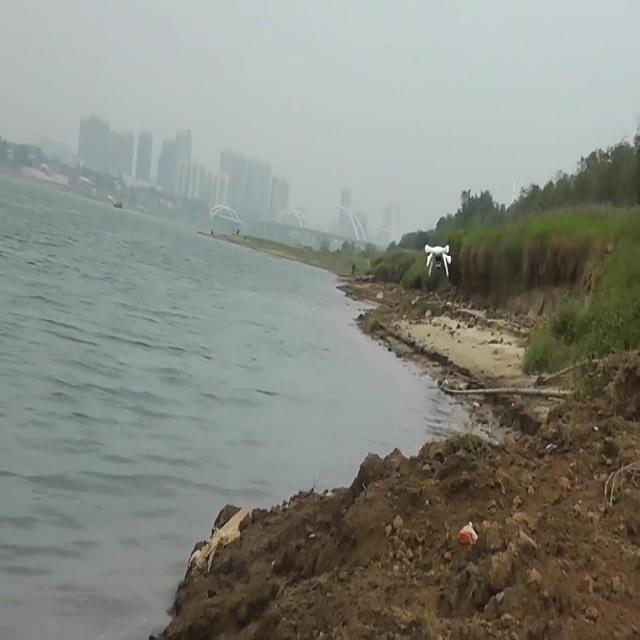UAV: (424, 245, 452, 278)
